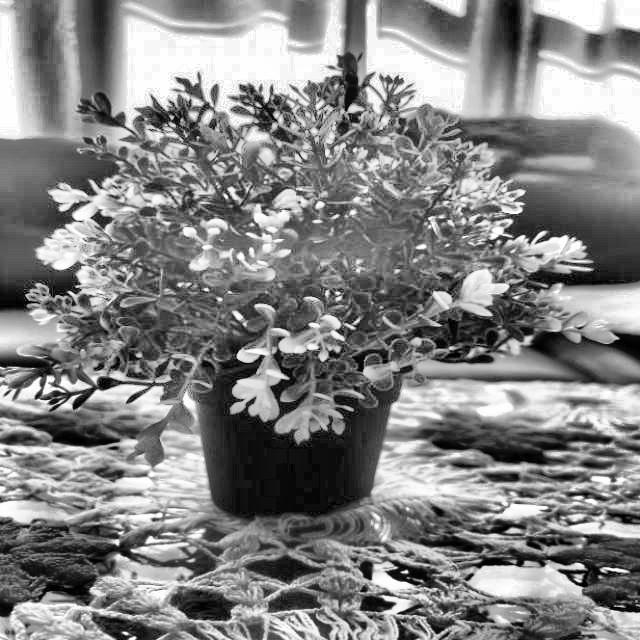plants: (14, 54, 637, 444)
